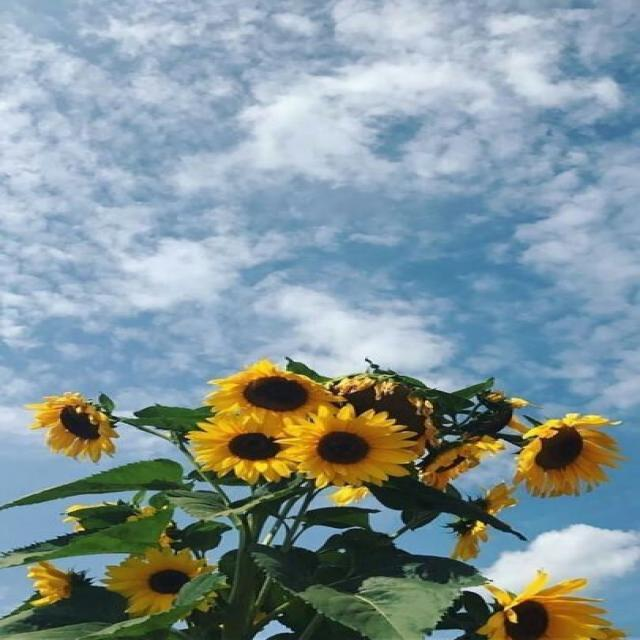sunflower: (275, 404, 419, 486), (508, 413, 628, 498), (474, 568, 612, 639), (202, 359, 343, 423), (326, 376, 436, 457), (184, 411, 298, 484), (100, 547, 218, 617), (23, 392, 118, 464), (446, 482, 516, 560), (60, 501, 176, 548), (417, 434, 504, 491), (26, 559, 96, 607), (590, 628, 624, 640)
